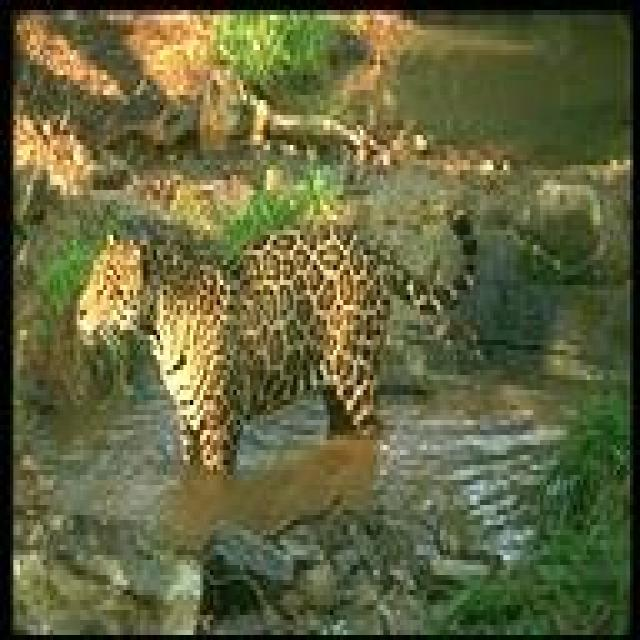Leopard: (69, 218, 476, 462)
